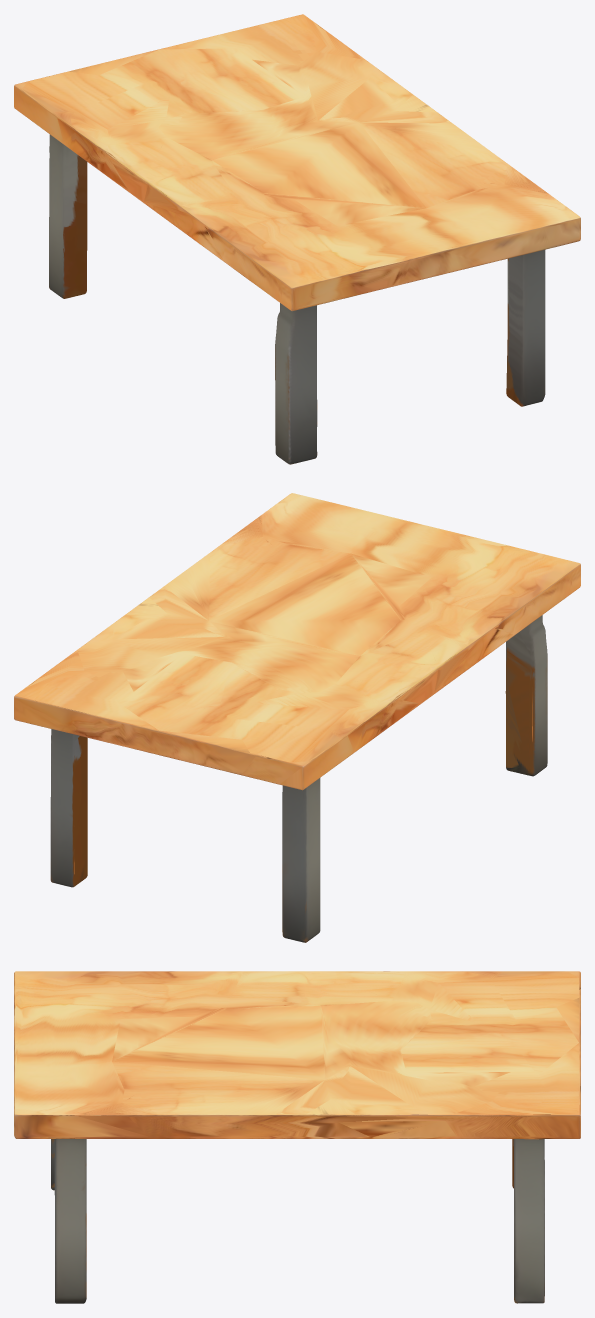
File: mesa.fbx
3 views of the same model, one above another, from view 1: azimuth 30°, elevation 25°; view 2: azimuth 150°, elevation 25°; view 3: azimuth 270°, elevation 25° (orthographic).
Visible parts, largest first — view 1: model; view 2: model; view 3: model.
Part boxes in pixels (box(x1,y1,x2,y2)): model: box(14, 14, 580, 464); model: box(14, 493, 580, 942); model: box(14, 971, 580, 1303).
Size of the model in its own units: 156 by 100 by 258.
